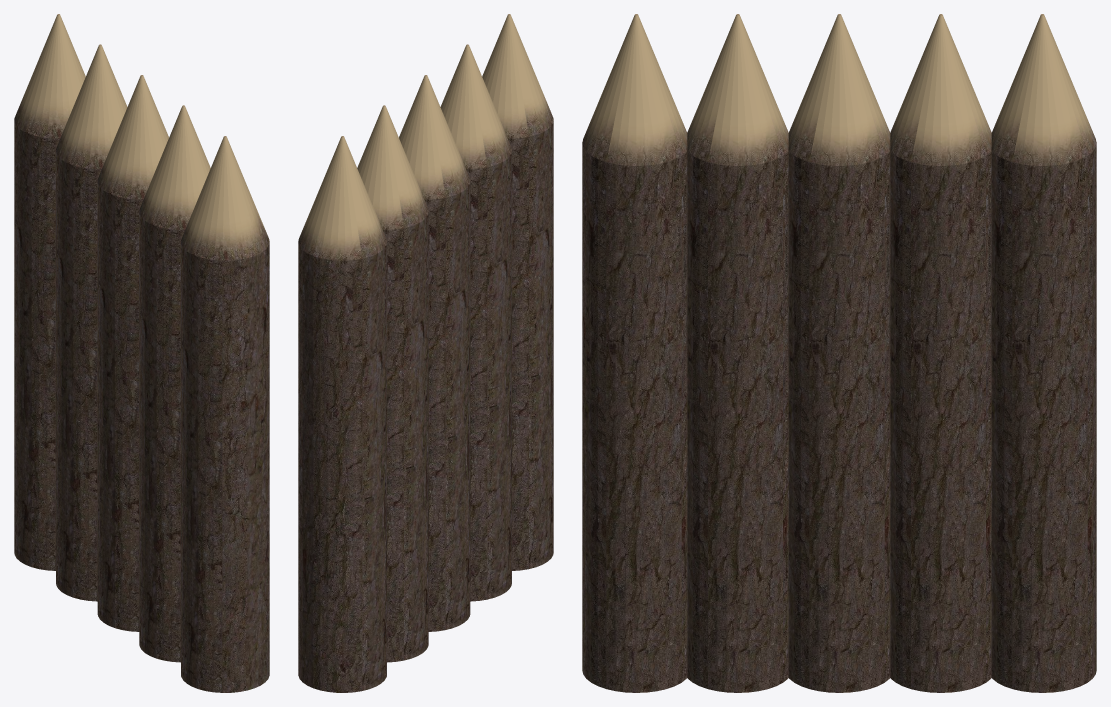
File: Wall 1.fbx
The picture shows the model from 3 angles, left to right: view 1: azimuth 30°, elevation 25°; view 2: azimuth 150°, elevation 25°; view 3: azimuth 270°, elevation 25°; orthographic projection. The views are drawn at different scales.
Visible parts, largest first — view 1: Spike5, Spike3, Spike4, Spike1, Spike2; view 2: Spike1, Spike3, Spike2, Spike5, Spike4; view 3: Spike1, Spike5, Spike3, Spike2, Spike4.
Boxes of the visible parts, x1=… form: Spike5: x1=181, y1=136, x2=269, y2=692; Spike3: x1=97, y1=75, x2=168, y2=631; Spike4: x1=139, y1=105, x2=210, y2=662; Spike1: x1=14, y1=14, x2=85, y2=570; Spike2: x1=56, y1=44, x2=127, y2=601; Spike1: x1=298, y1=136, x2=386, y2=692; Spike3: x1=399, y1=75, x2=470, y2=631; Spike2: x1=357, y1=105, x2=428, y2=662; Spike5: x1=482, y1=14, x2=553, y2=570; Spike4: x1=440, y1=44, x2=511, y2=601; Spike1: x1=991, y1=14, x2=1096, y2=692; Spike5: x1=582, y1=14, x2=687, y2=692; Spike3: x1=788, y1=14, x2=890, y2=692; Spike2: x1=890, y1=14, x2=991, y2=692; Spike4: x1=687, y1=14, x2=788, y2=692.
Size of the model in its own units: 32.05 by 214 by 152.
Materials: 1 (1 with a texture image).
